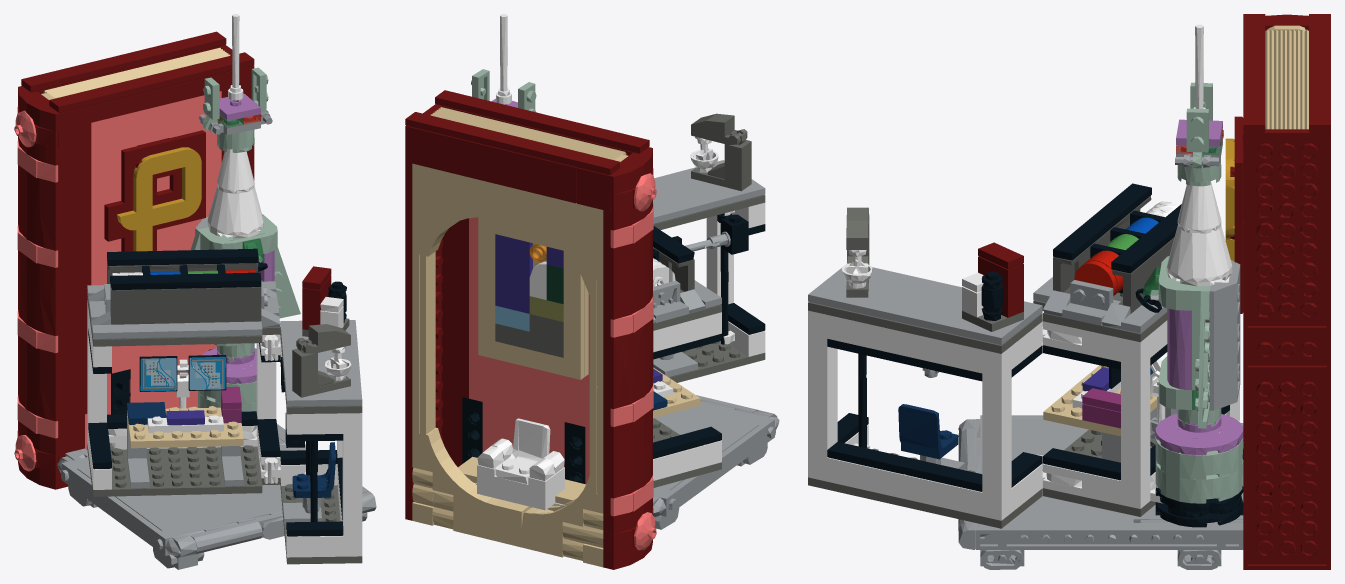
File: bookend-peter.glb
3 renders of one model, left to right at view 1: azimuth 30°, elevation 25°; view 2: azimuth 150°, elevation 25°; view 3: azimuth 270°, elevation 25°, orthographic. The views are drawn at different scales.
Visible parts, largest first — view 1: bookend-peter; view 2: bookend-peter; view 3: bookend-peter.
Boxes of the visible parts, bbox=[...] form: bookend-peter: bbox=[14, 14, 376, 569]; bookend-peter: bbox=[405, 14, 779, 569]; bookend-peter: bbox=[808, 14, 1330, 569].
Bounding box in the file's own units: 0.1207 × 0.212 × 0.1909.
